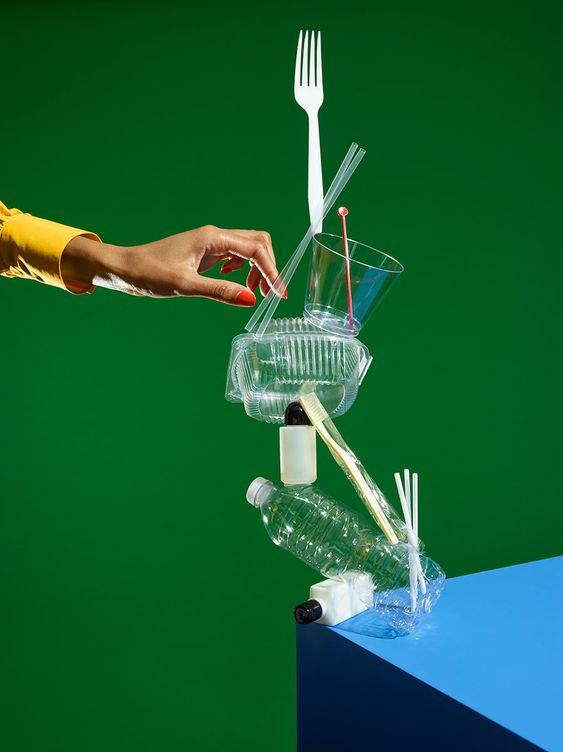HDPE: (310, 569, 377, 628), (244, 476, 273, 508), (292, 600, 319, 625), (286, 401, 313, 425)
LDPE: (279, 423, 317, 489)
PETE: (261, 482, 447, 635)
PS: (226, 321, 373, 424), (292, 28, 331, 236)
